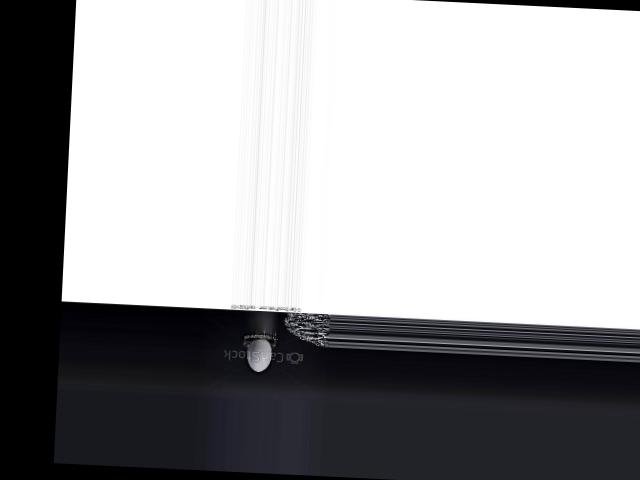egg: (245, 337, 272, 371)
